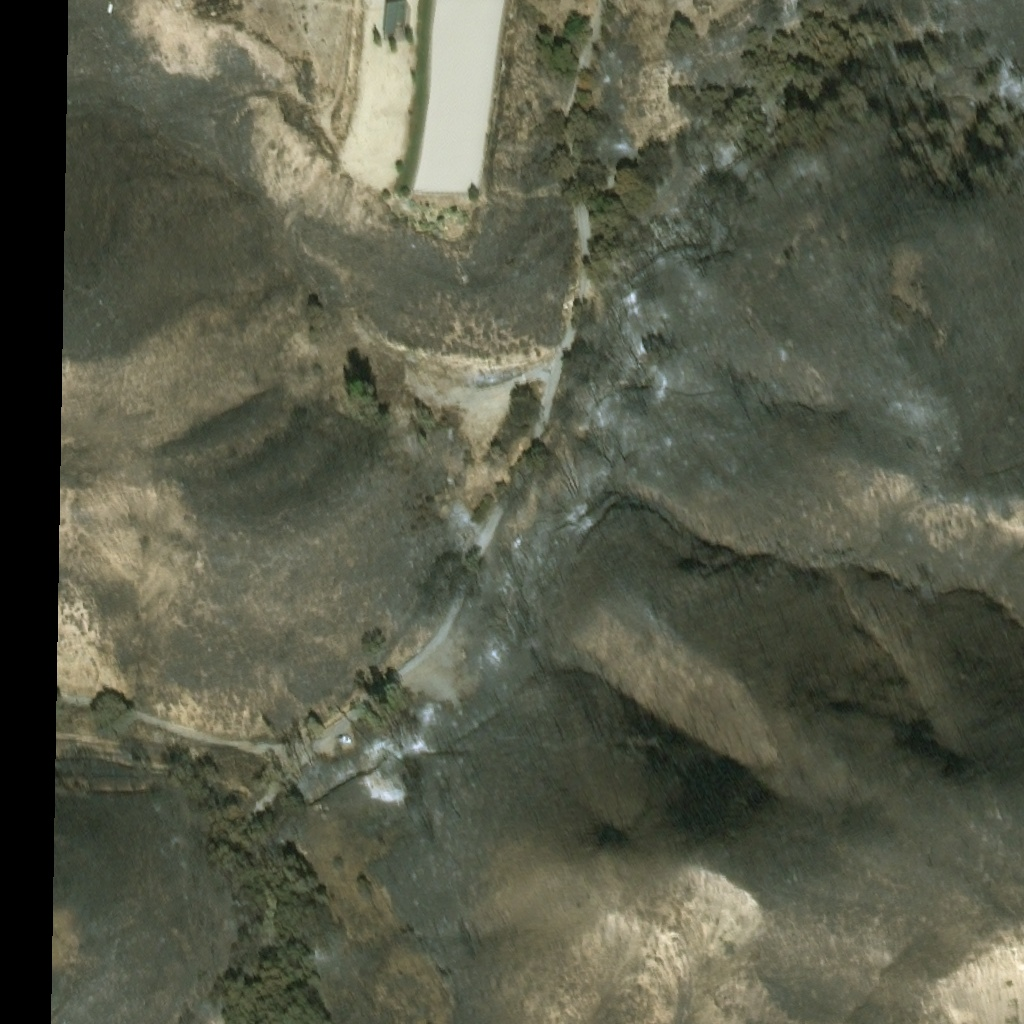0 no-damage: (382, 0, 412, 33)
